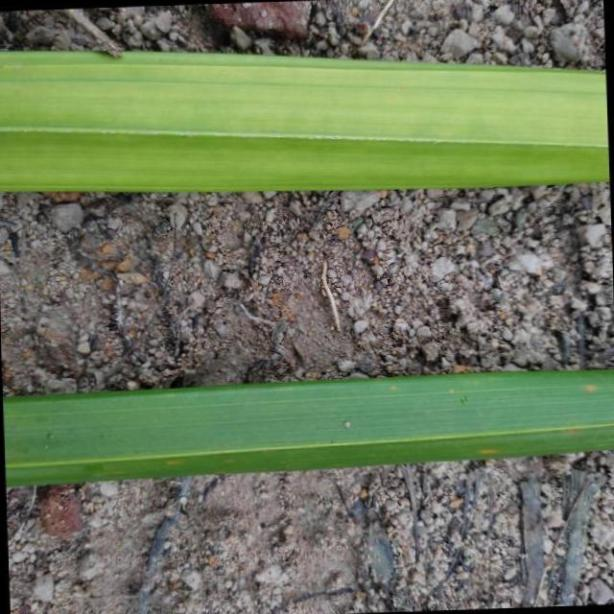nitrogen: (0, 40, 614, 184), (5, 369, 614, 484)
